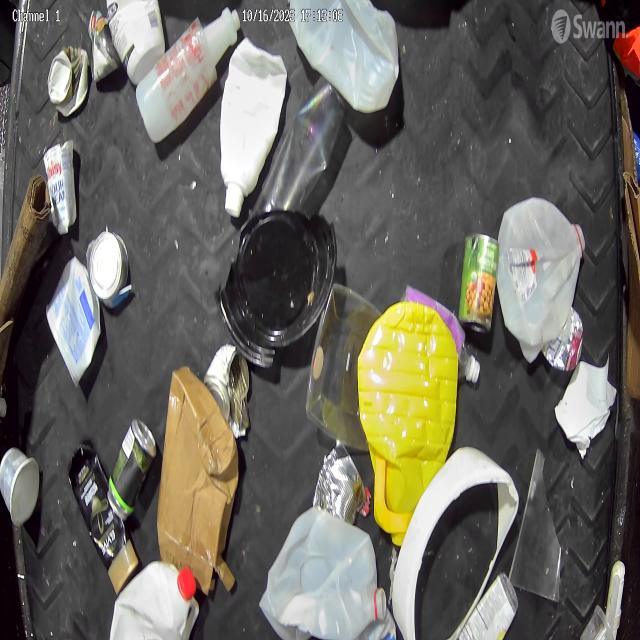can: (106, 414, 155, 536), (312, 439, 366, 526), (458, 231, 500, 337), (203, 349, 251, 423), (88, 230, 129, 310), (46, 43, 87, 115)
milk_jug: (264, 498, 387, 640), (492, 192, 587, 356), (284, 0, 396, 109), (115, 556, 200, 640)
non_white_jug: (360, 301, 456, 540)
